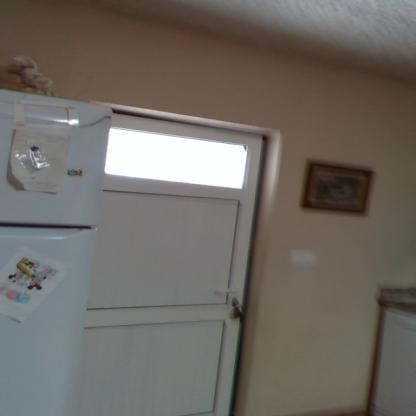closed: (81, 99, 294, 416)
